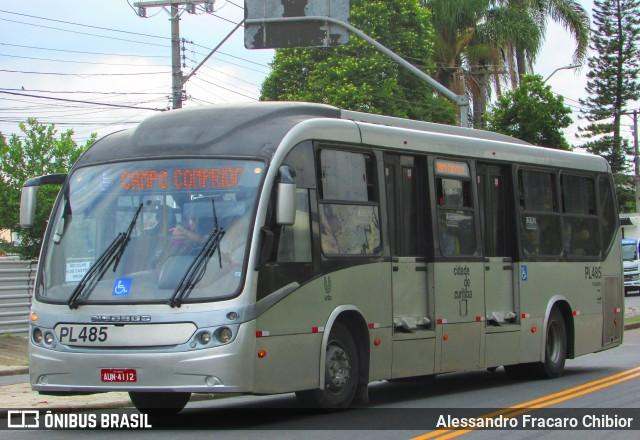CAMPO COMPRIDO: (118, 164, 247, 194)
